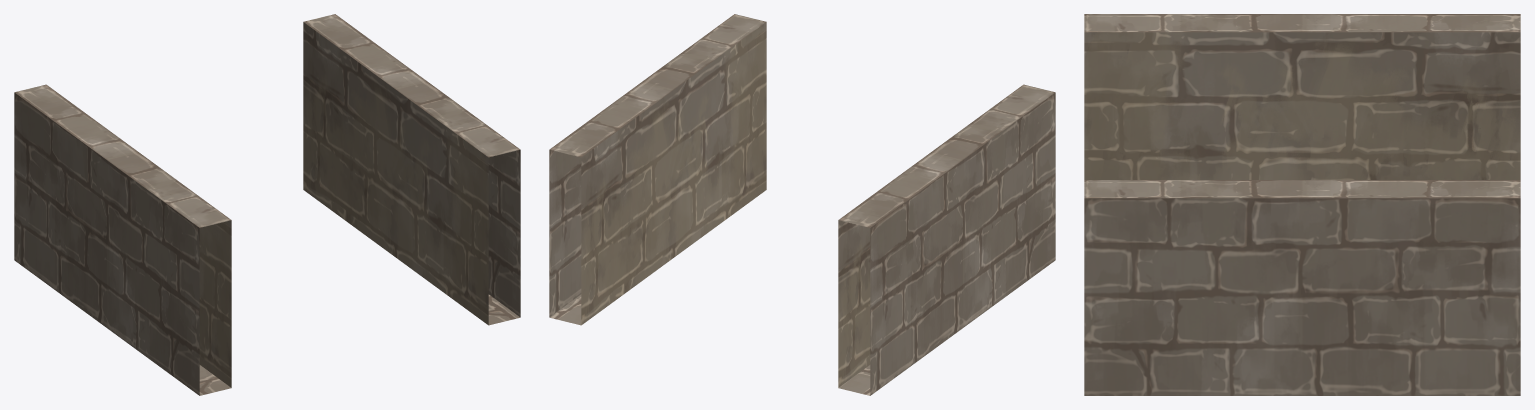
File: stairs_exterior_sides.glb
3 renders of one model, left to right at view 1: azimuth 30°, elevation 25°; view 2: azimuth 150°, elevation 25°; view 3: azimuth 270°, elevation 25°, orthographic. The views are drawn at different scales.
Visible parts, largest first — view 1: Stairs_Exterior_Sides; view 2: Stairs_Exterior_Sides; view 3: Stairs_Exterior_Sides.
Boxes of the visible parts, x1,y1,x2,y2 form: Stairs_Exterior_Sides: (14,14,520,395); Stairs_Exterior_Sides: (549,14,1055,395); Stairs_Exterior_Sides: (1084,14,1520,395).
Size of the model in its own units: 2 by 1 by 2.
Materials: 1 (1 with a texture image).
